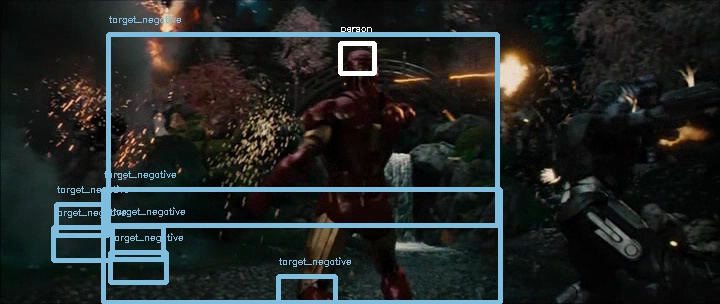person: (338, 47, 382, 93), (337, 47, 381, 93), (339, 47, 383, 93), (338, 46, 382, 92), (338, 48, 382, 94)
target_negative: (90, 20, 439, 109), (258, 56, 410, 258), (1, 97, 180, 252), (516, 39, 596, 160), (251, 90, 278, 261), (476, 72, 523, 109)
